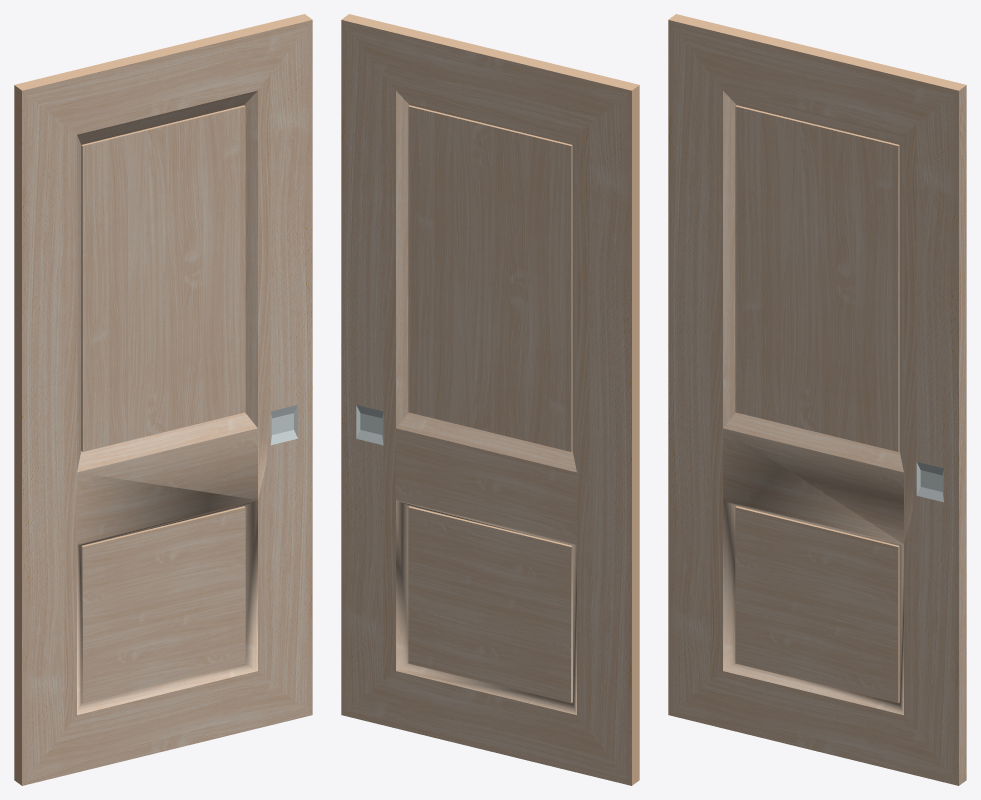
Rendered from porta-sliding-texture.glb.
3 views of the same model, side by side, from view 1: azimuth 30°, elevation 25°; view 2: azimuth 150°, elevation 25°; view 3: azimuth 330°, elevation 25° (orthographic).
Visible parts, largest first — view 1: door; view 2: door; view 3: door.
Part boxes in pixels (x1,y1,x2,y2): door: (14, 14, 312, 785); door: (341, 14, 639, 785); door: (668, 14, 966, 785).
Size of the model in its own units: 0.4293 by 0.9812 by 0.0204.
Materials: 3 (1 with a texture image).
